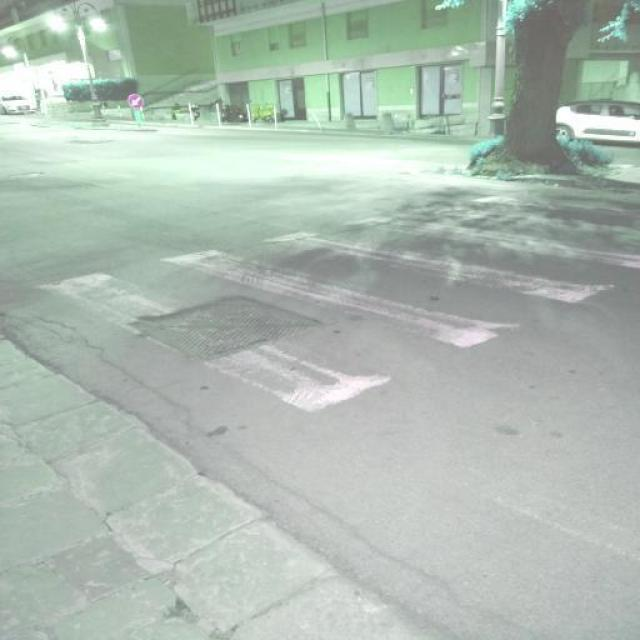crosswalk: (40, 170, 640, 416)
